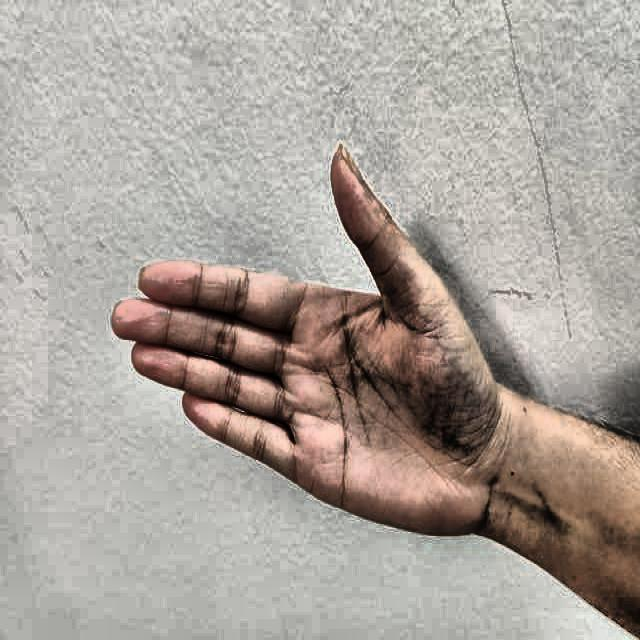Aa: (78, 116, 491, 567)
